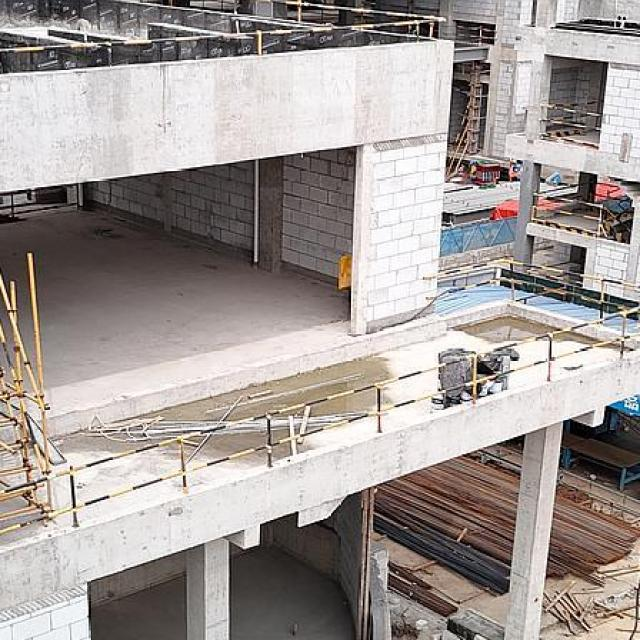edge_guardrail: (0, 251, 640, 536), (0, 0, 447, 57), (531, 183, 603, 233), (543, 100, 601, 131), (458, 25, 495, 44), (595, 182, 619, 201), (546, 260, 570, 267)
